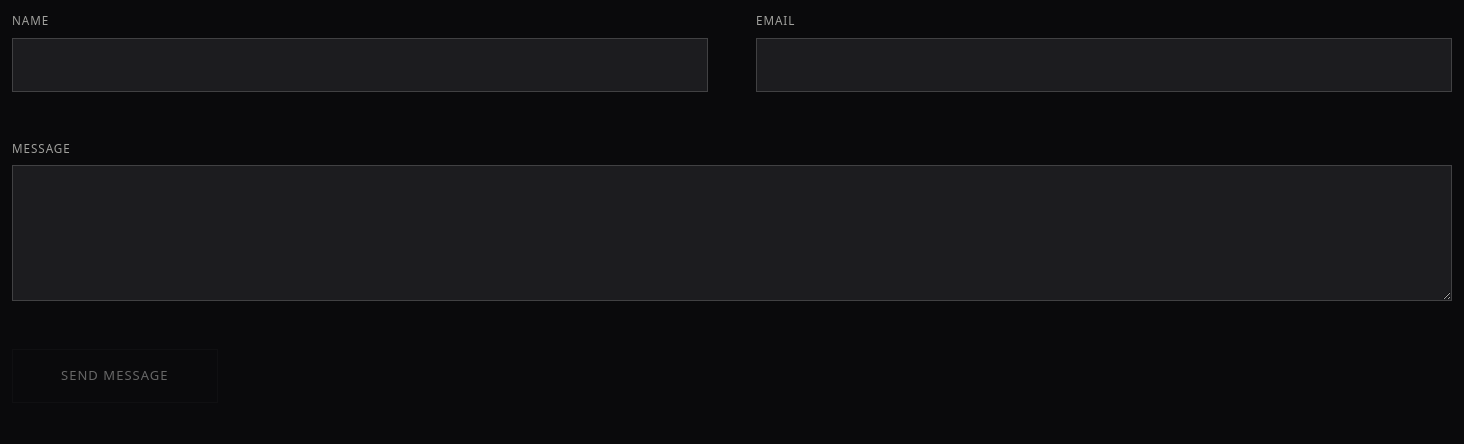
ContactForm › flags a field the visitor has typed in and left invalid
Type "A" into the field with test id "contact-name-input". click: (360, 65)
box: [12,38,708,92]
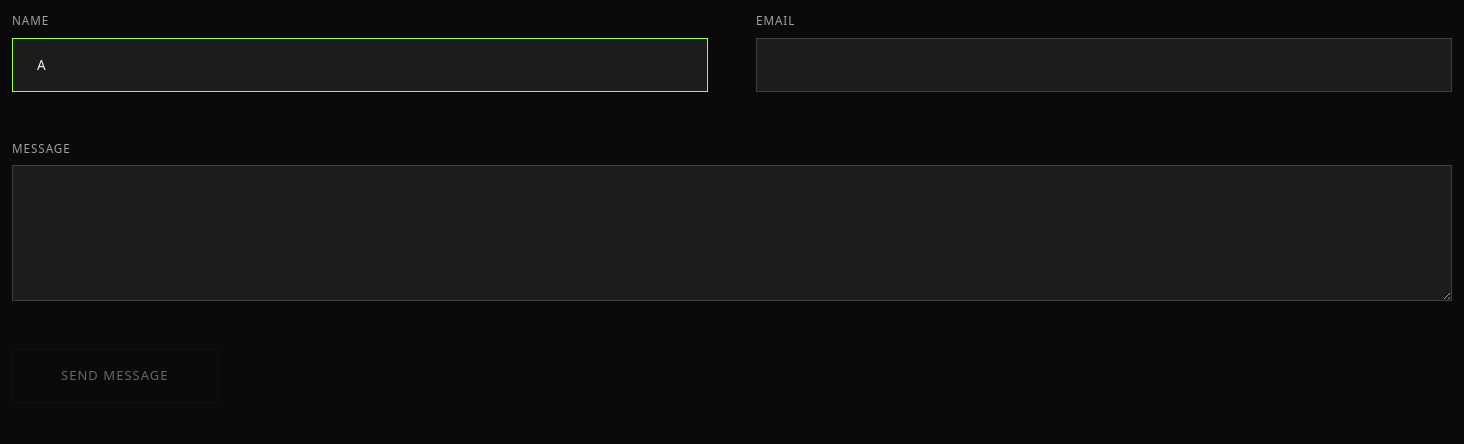
Clear the field with test id "contact-name-input". click: (360, 65)
box: [12,38,708,92]
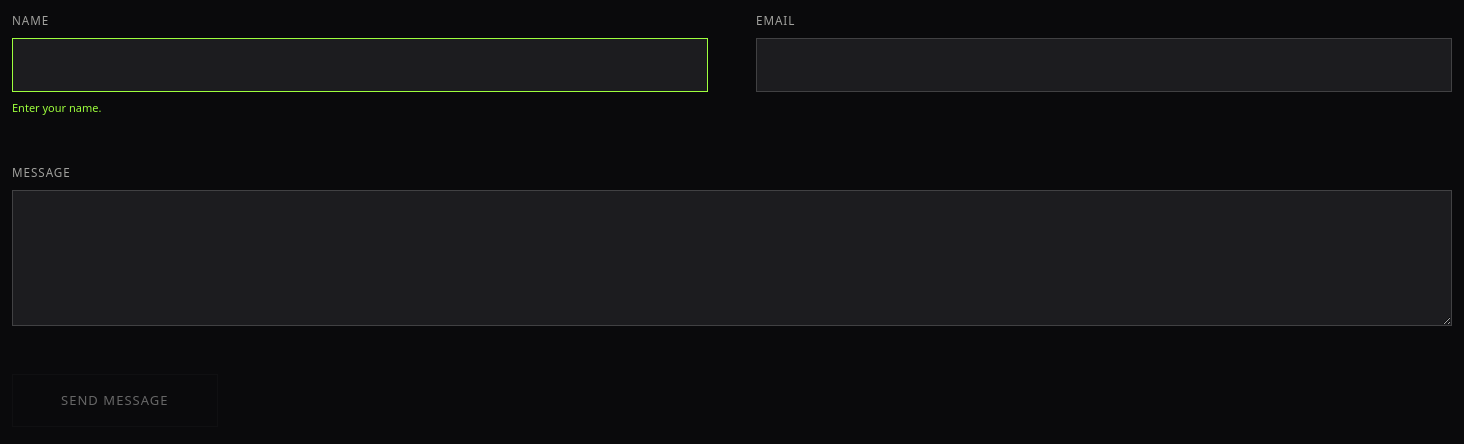
Check: the button with test id "contact-submit" is disabled, box [12,374,218,427]
Check: the message "Enter your name." is shown, box [12,100,101,115]
